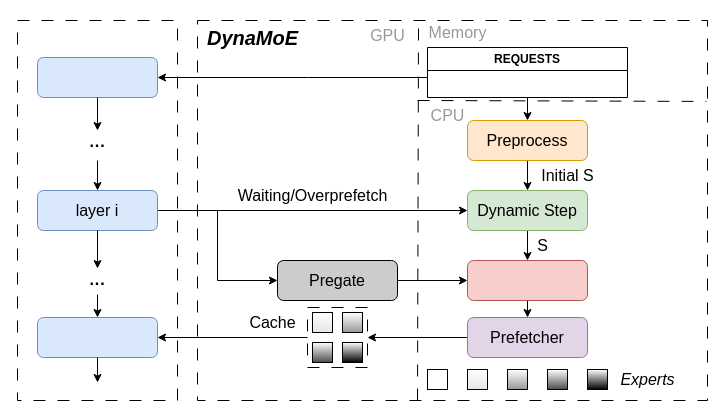
Some shapes in this 725 by 419 pixel diagram are drawn without their labels. Here are the shapes that lost their labels. From the top down, the centre of each, then its label:
the point at 97,77: layer 1
the point at 527,280: Predictor
the point at 97,337: layer i+S
